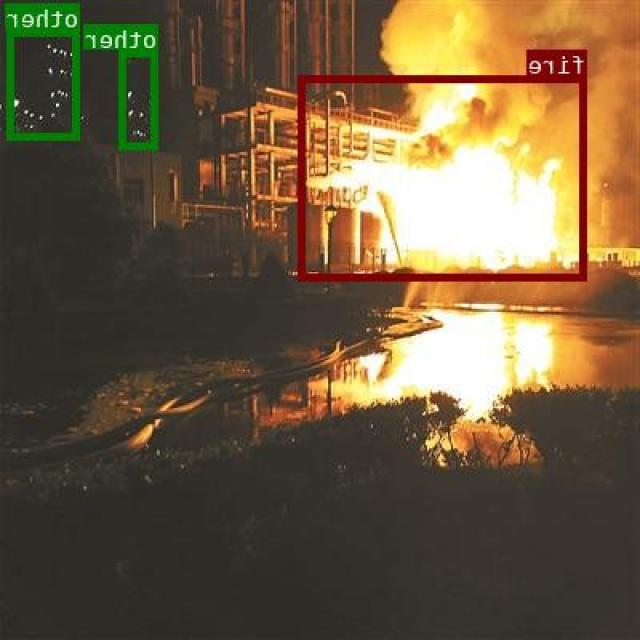fire: (301, 74, 588, 280)
other: (8, 29, 80, 138), (120, 49, 160, 149)
